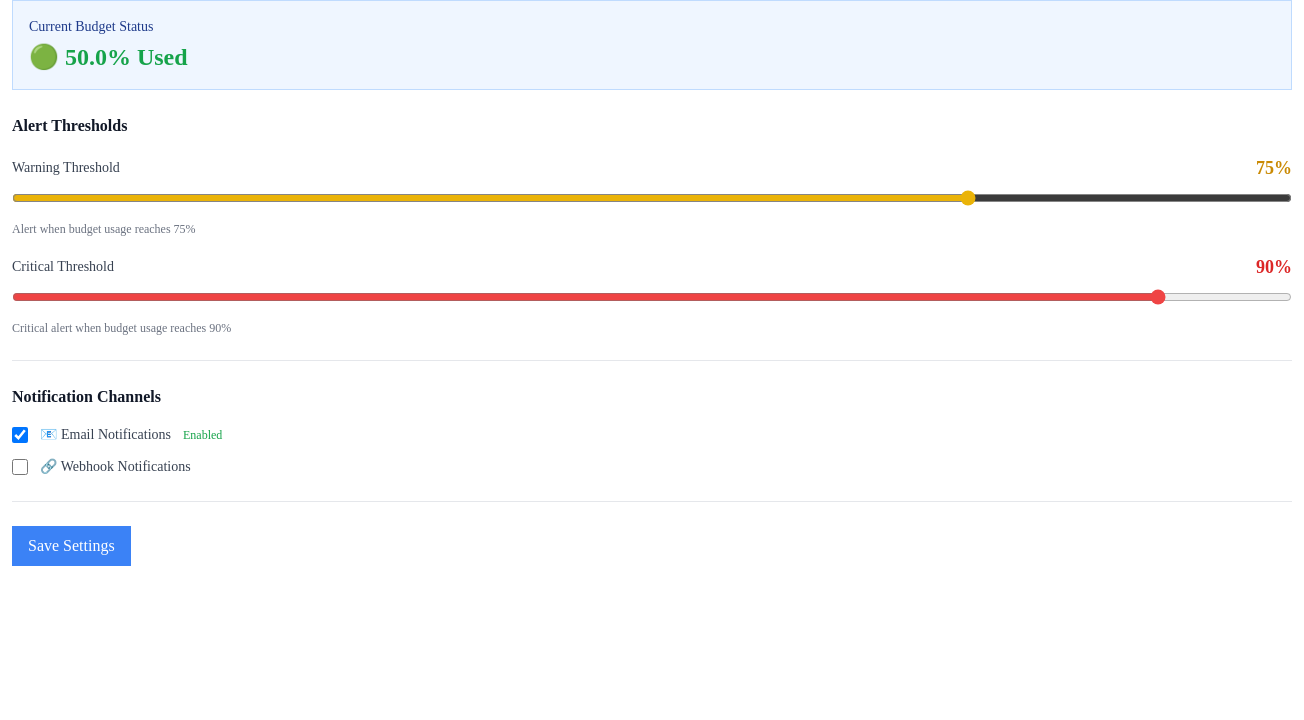
Test: Budget Components › BudgetAlertSettings › shows webhook URL input when enabled
Step 1. Click the checkbox labelled "🔗 Webhook Notifications" → (20, 467), box [12,459,28,475]
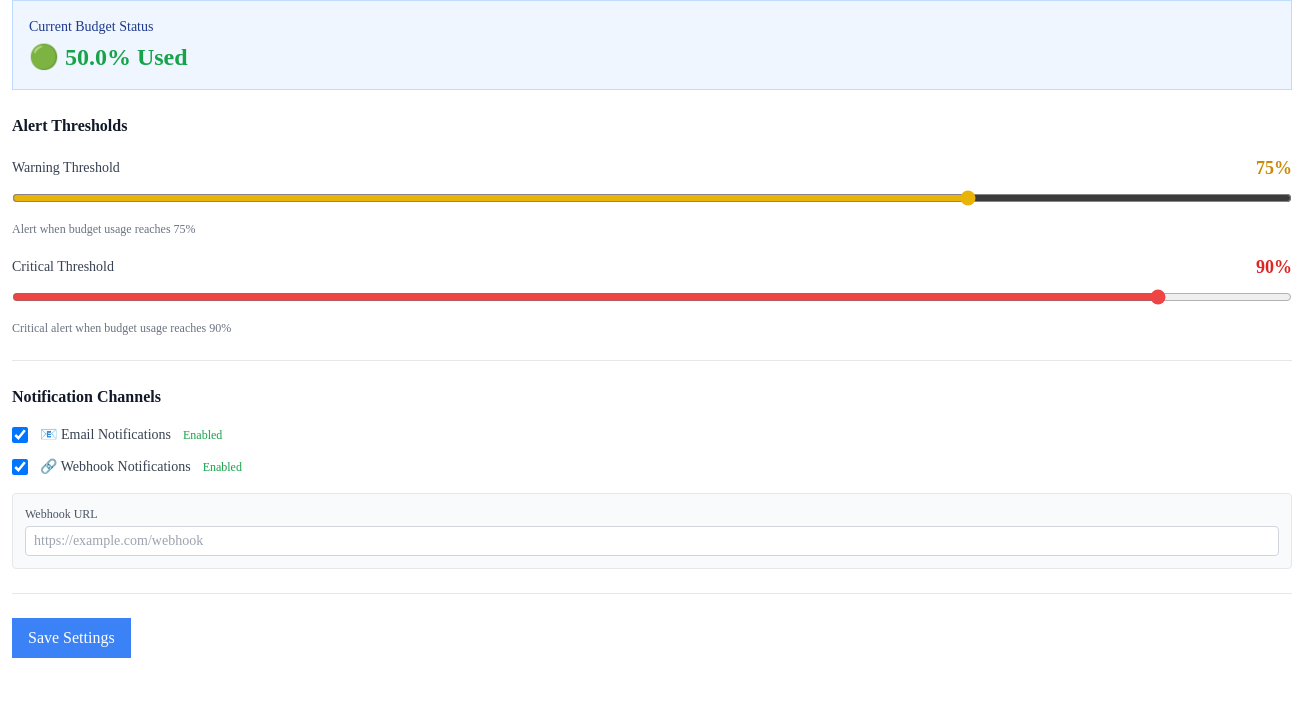
Check: the field with placeholder "https://example.com/webhook" is shown, box [25,526,1279,556]
